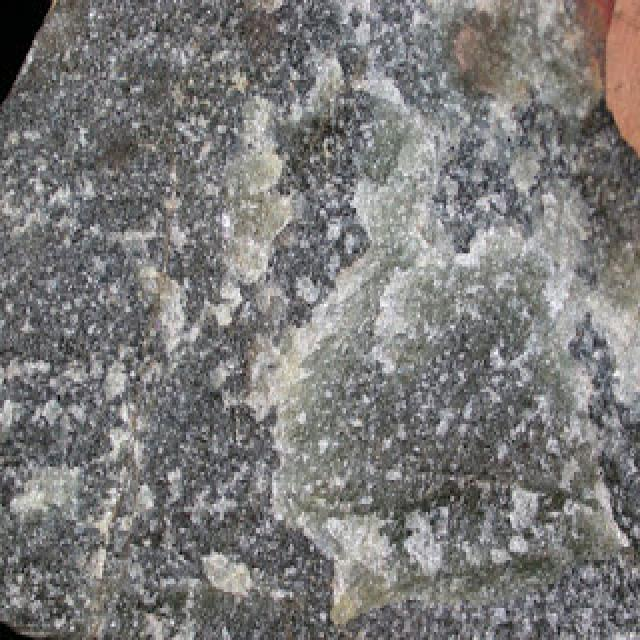Metamorphic: (14, 2, 638, 634)
